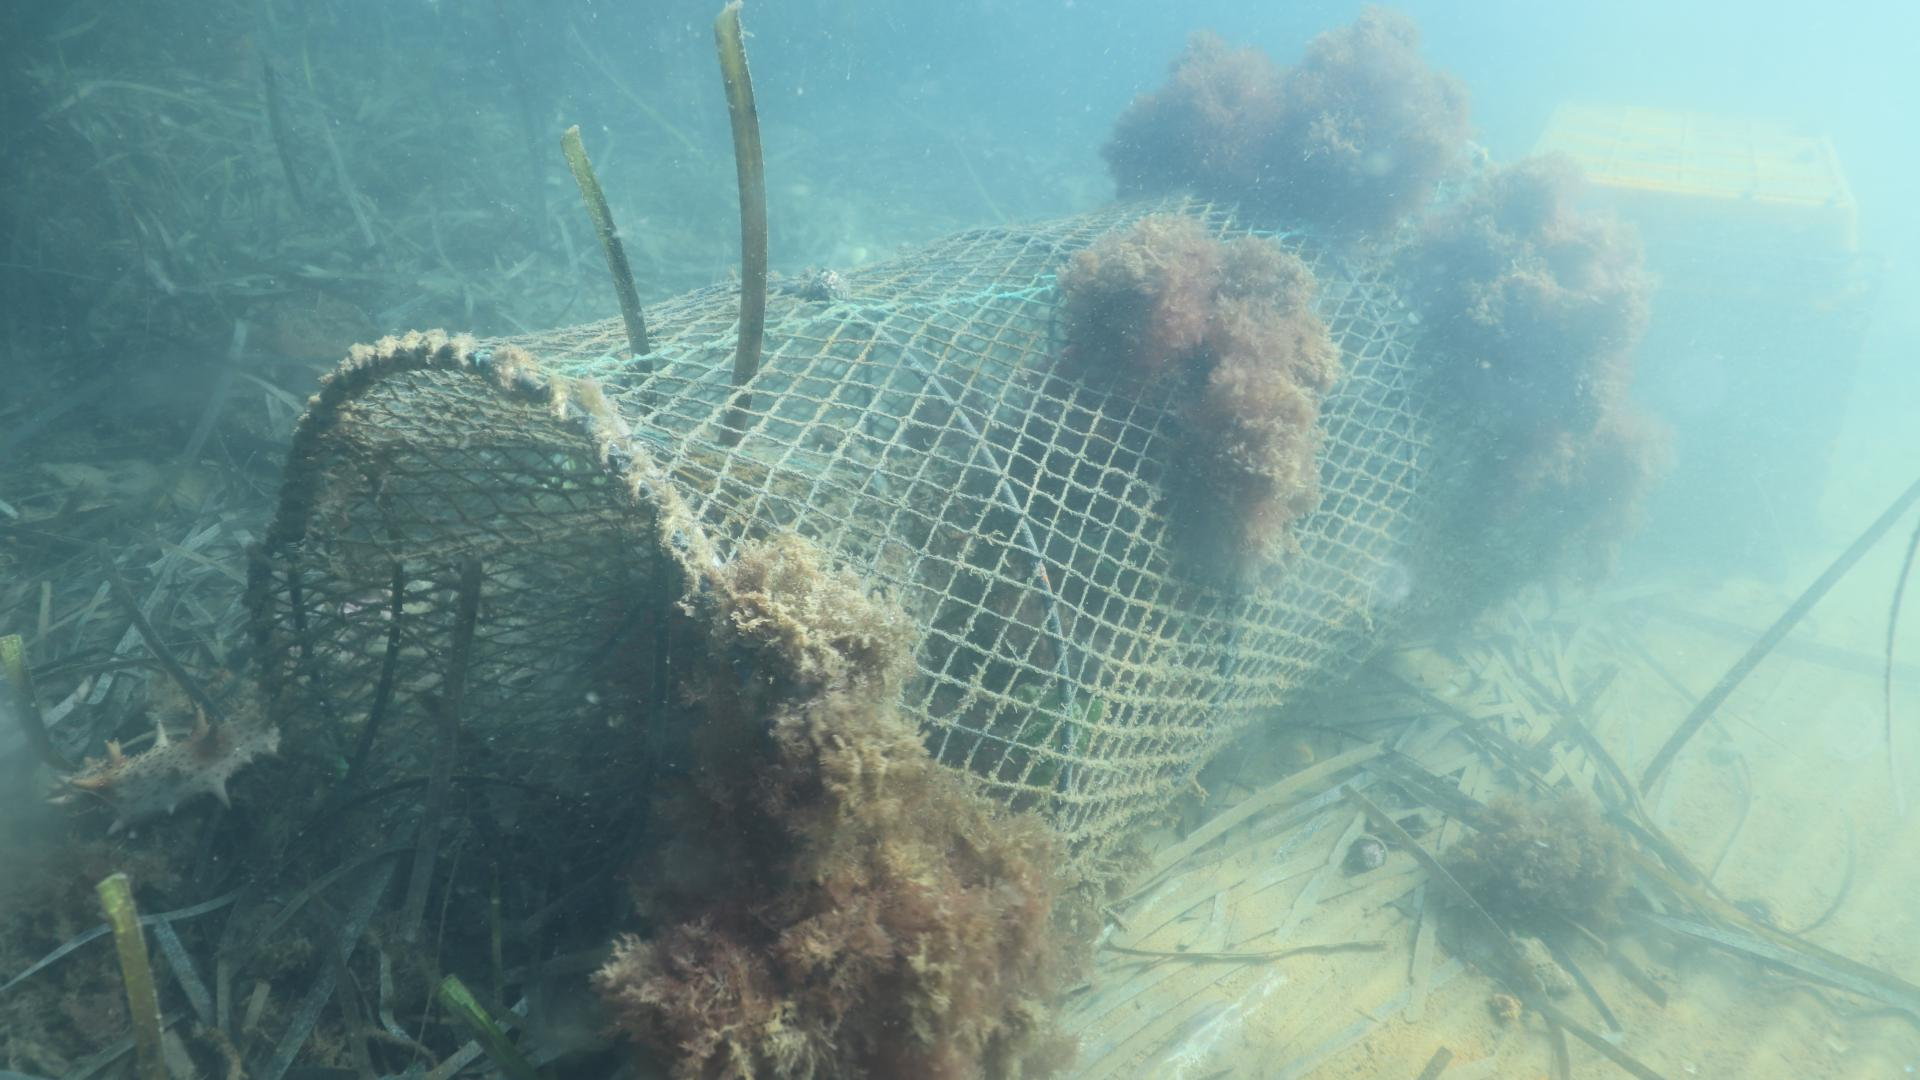spring fish trap: (255, 135, 1498, 1080)
